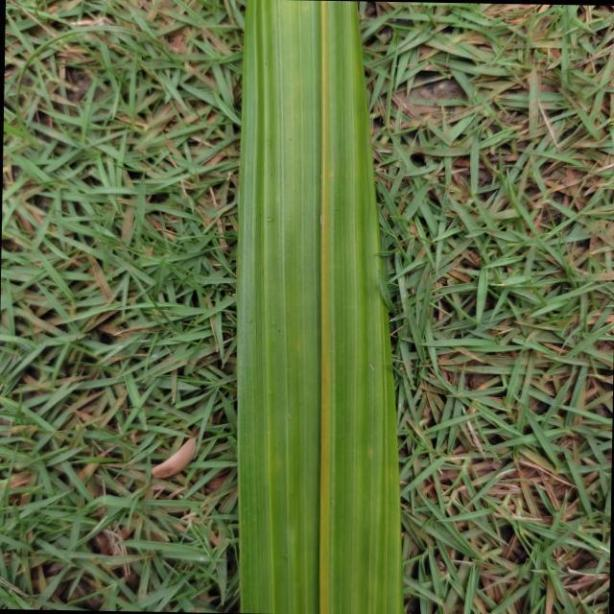nitrogen: (232, 0, 395, 614)
